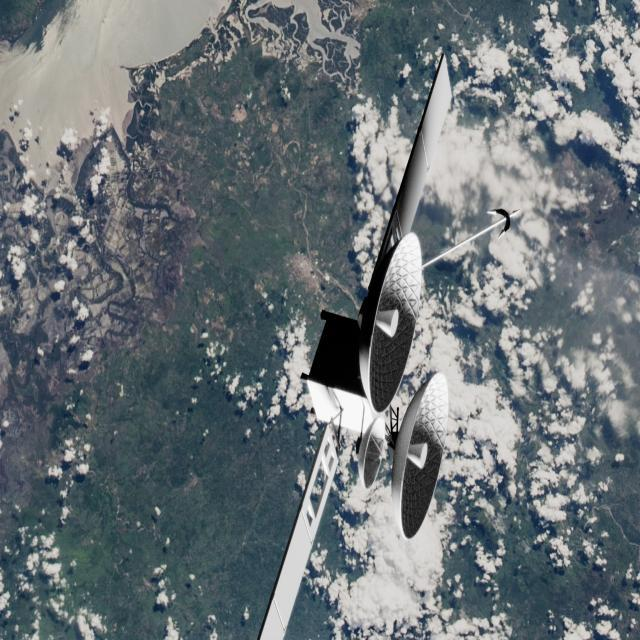medium_debris: (223, 61, 494, 640)
